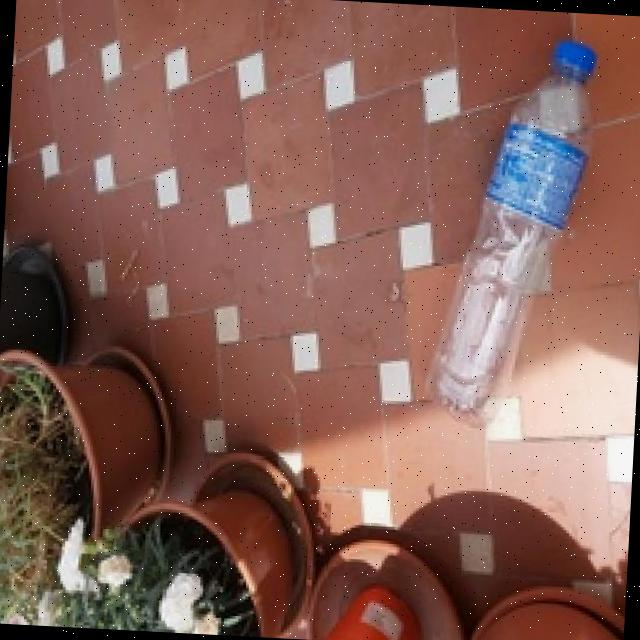bottle: (416, 25, 610, 438)
cap: (548, 40, 604, 84)
